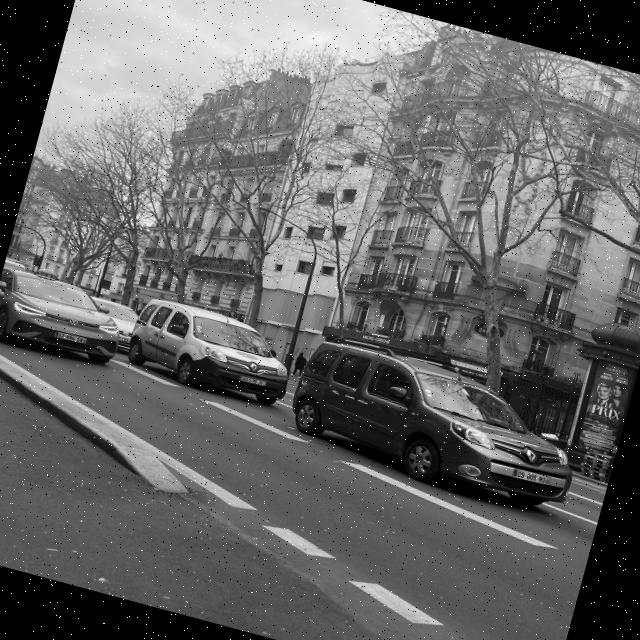Autre: (509, 464, 572, 494), (234, 368, 274, 392), (58, 326, 98, 348)
